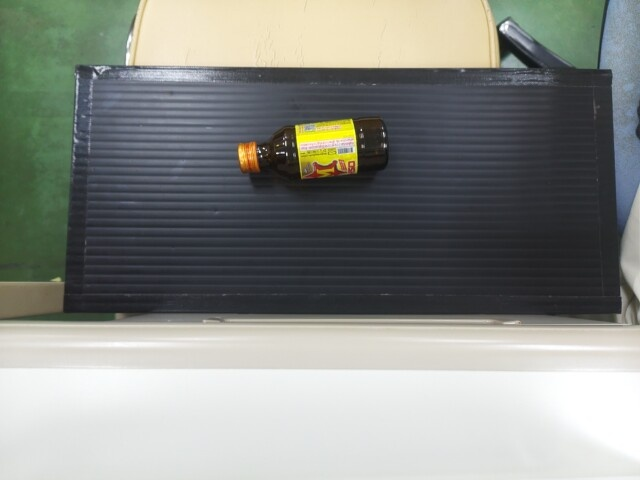glass_bottle: (233, 117, 390, 176)
